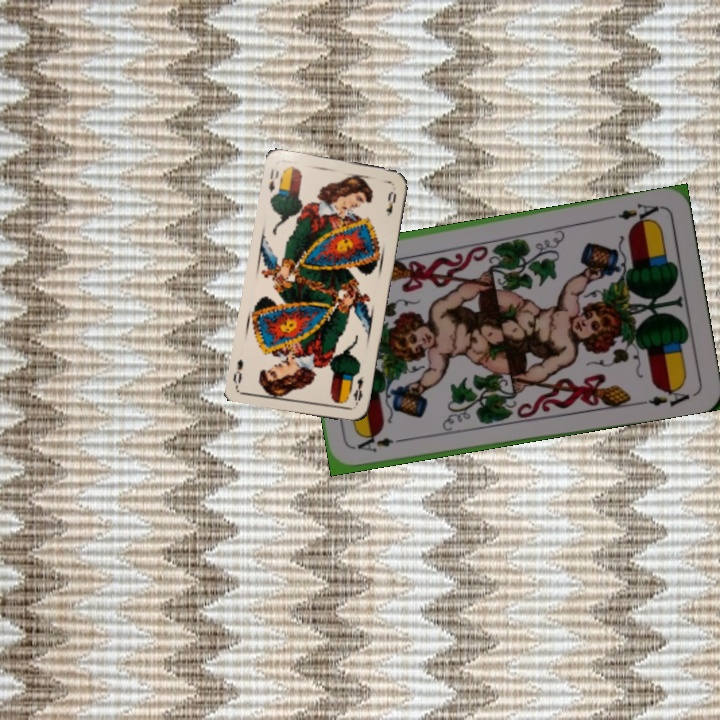EA: (606, 199, 664, 227), (353, 432, 396, 455)
EO: (349, 373, 367, 408), (264, 165, 281, 195)
